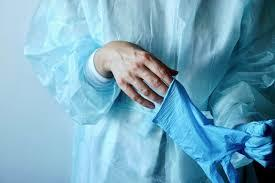Glove: (153, 80, 249, 182), (235, 120, 274, 166)
